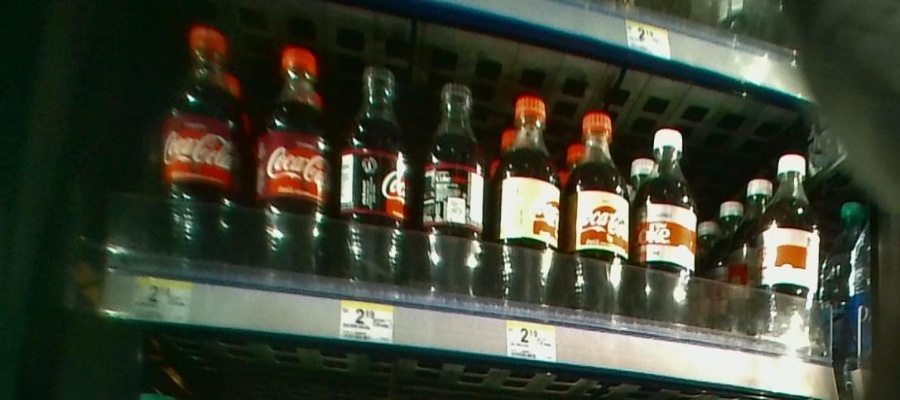bottle: (156, 20, 238, 261), (253, 34, 333, 278), (335, 44, 413, 291), (490, 86, 568, 328), (414, 61, 489, 291), (570, 98, 633, 325), (633, 120, 699, 327), (759, 152, 823, 355)
